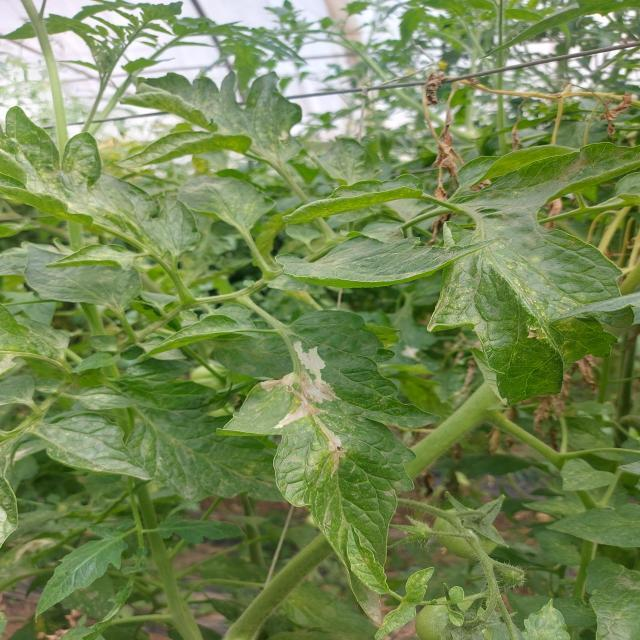Tuta absoluta: (251, 334, 357, 482)
